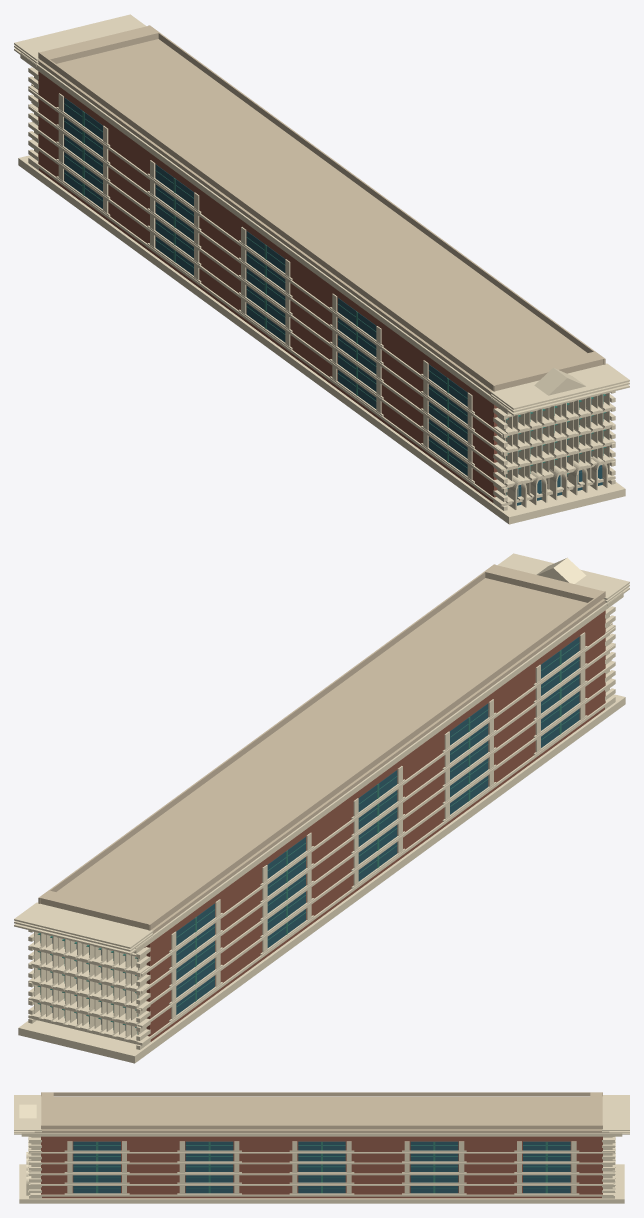
File: yifeng-building.glb
The picture shows the model from 3 angles, top to bottom: view 1: azimuth 30°, elevation 25°; view 2: azimuth 150°, elevation 25°; view 3: azimuth 270°, elevation 25°; orthographic projection. The views are drawn at different scales.
Parts seen in each view (by area): view 1: yifeng-building; view 2: yifeng-building; view 3: yifeng-building.
Boxes of the visible parts, x1,y1,x2,y2 form: yifeng-building: (14,14,629,524); yifeng-building: (14,553,629,1063); yifeng-building: (14,1092,629,1203).
Size of the model in its own units: 15.65 by 17 by 116.
